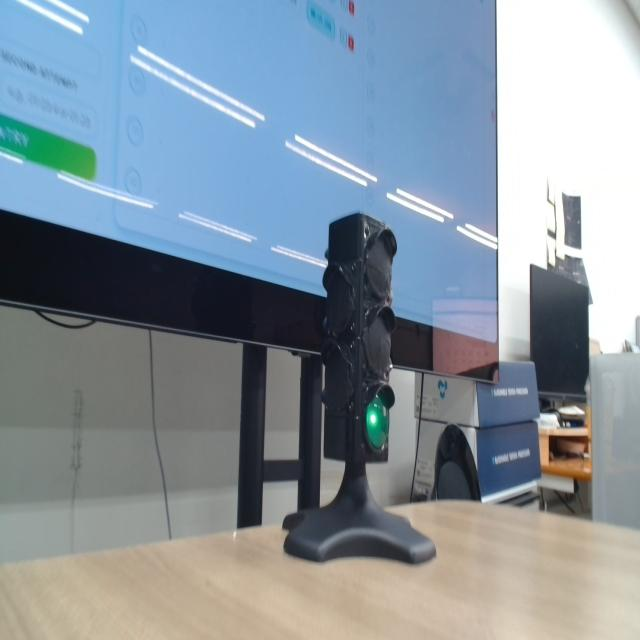green_light: (366, 396, 389, 450)
